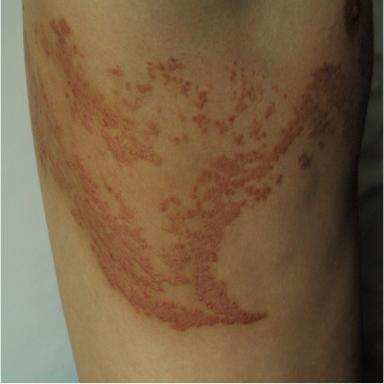Darier_s-Disease: (27, 13, 361, 338)
